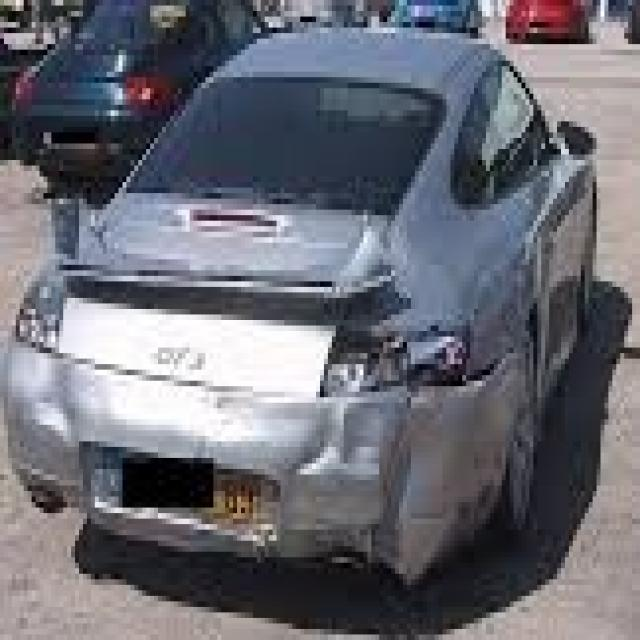minor: (1, 142, 568, 589)
